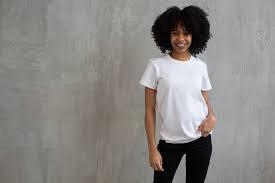Tshirt: (126, 52, 234, 145)
